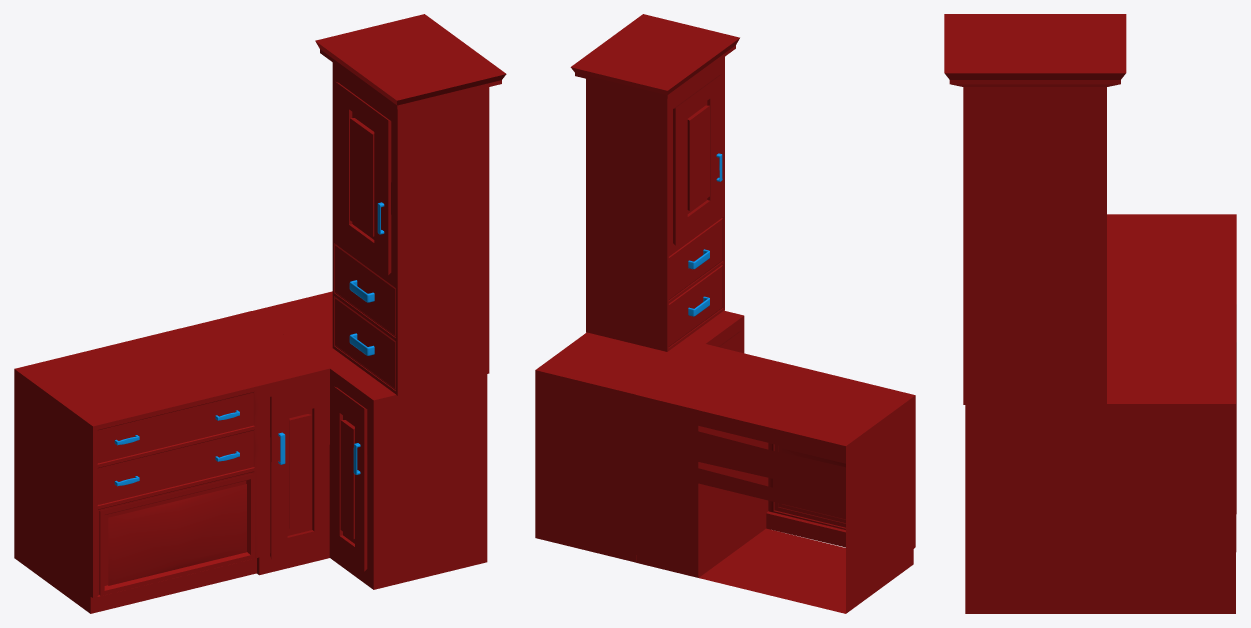
Rendered from angle3.fbx.
3 renders of one model, left to right at view 1: azimuth 30°, elevation 25°; view 2: azimuth 150°, elevation 25°; view 3: azimuth 270°, elevation 25°, orthographic. The views are drawn at different scales.
Visible parts, largest first — view 1: angle; view 2: angle; view 3: angle.
Part boxes in pixels (bbox=[...]): angle: bbox=[14, 14, 506, 613]; angle: bbox=[535, 14, 915, 613]; angle: bbox=[944, 14, 1236, 613].
Size of the model in its own units: 190 by 248 by 120.
